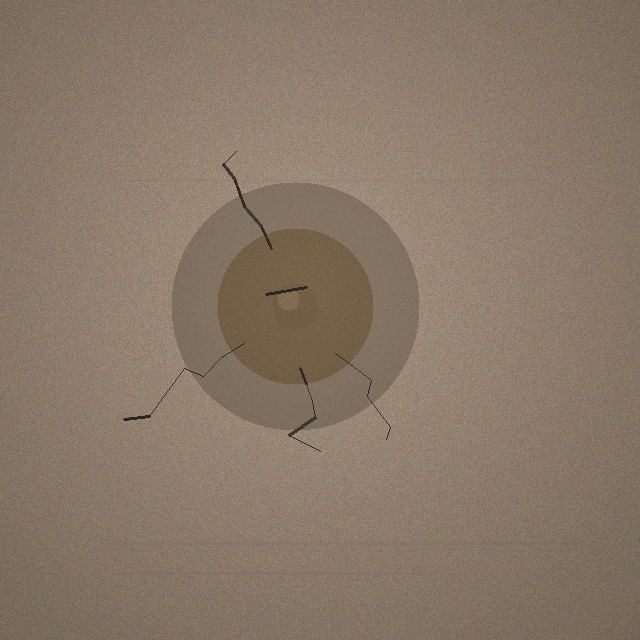crack: (171, 182, 419, 430)
